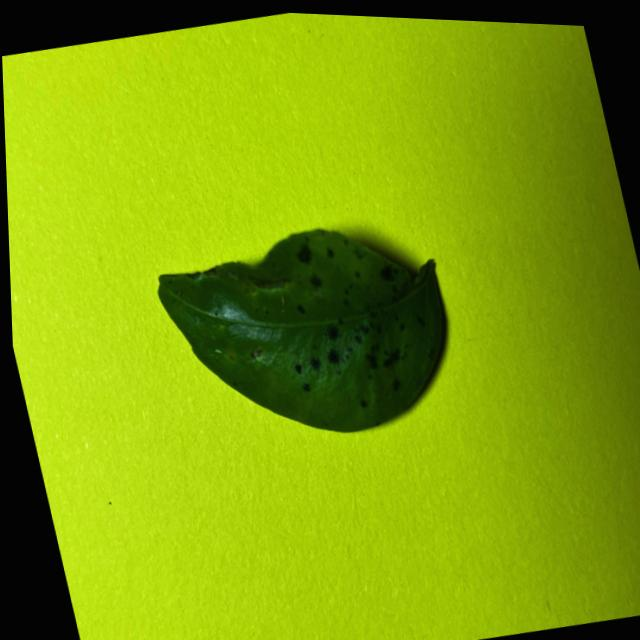sooty_mold: (158, 231, 441, 432)
